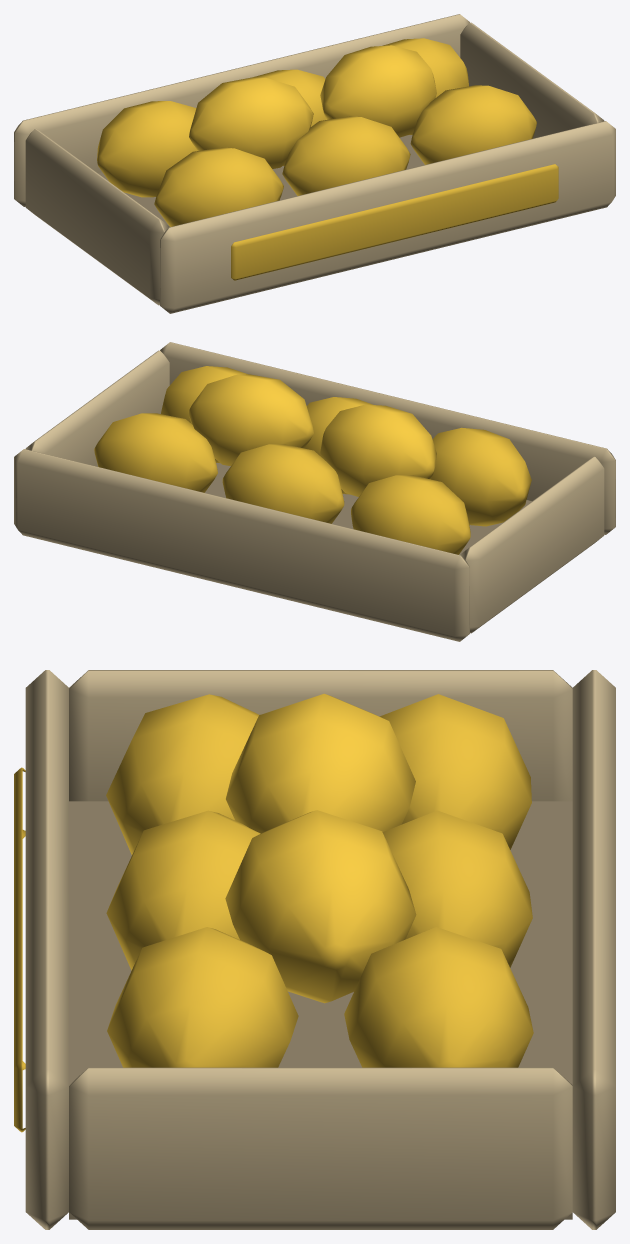
Rendered from ProduceTray_Lemons_01.glb.
The picture shows the model from 3 angles, top to bottom: view 1: azimuth 30°, elevation 25°; view 2: azimuth 150°, elevation 25°; view 3: azimuth 270°, elevation 25°; orthographic projection. The views are drawn at different scales.
Visible parts, largest first — view 1: SM_ProduceTray_Lemons_01; view 2: SM_ProduceTray_Lemons_01; view 3: SM_ProduceTray_Lemons_01.
Boxes of the visible parts, x1,y1,x2,y2 form: SM_ProduceTray_Lemons_01: (14, 14, 615, 313); SM_ProduceTray_Lemons_01: (14, 342, 615, 641); SM_ProduceTray_Lemons_01: (14, 670, 615, 1229).
Size of the model in its own units: 0.5 by 0.1489 by 0.306.
Materials: 1 (1 with a texture image).
